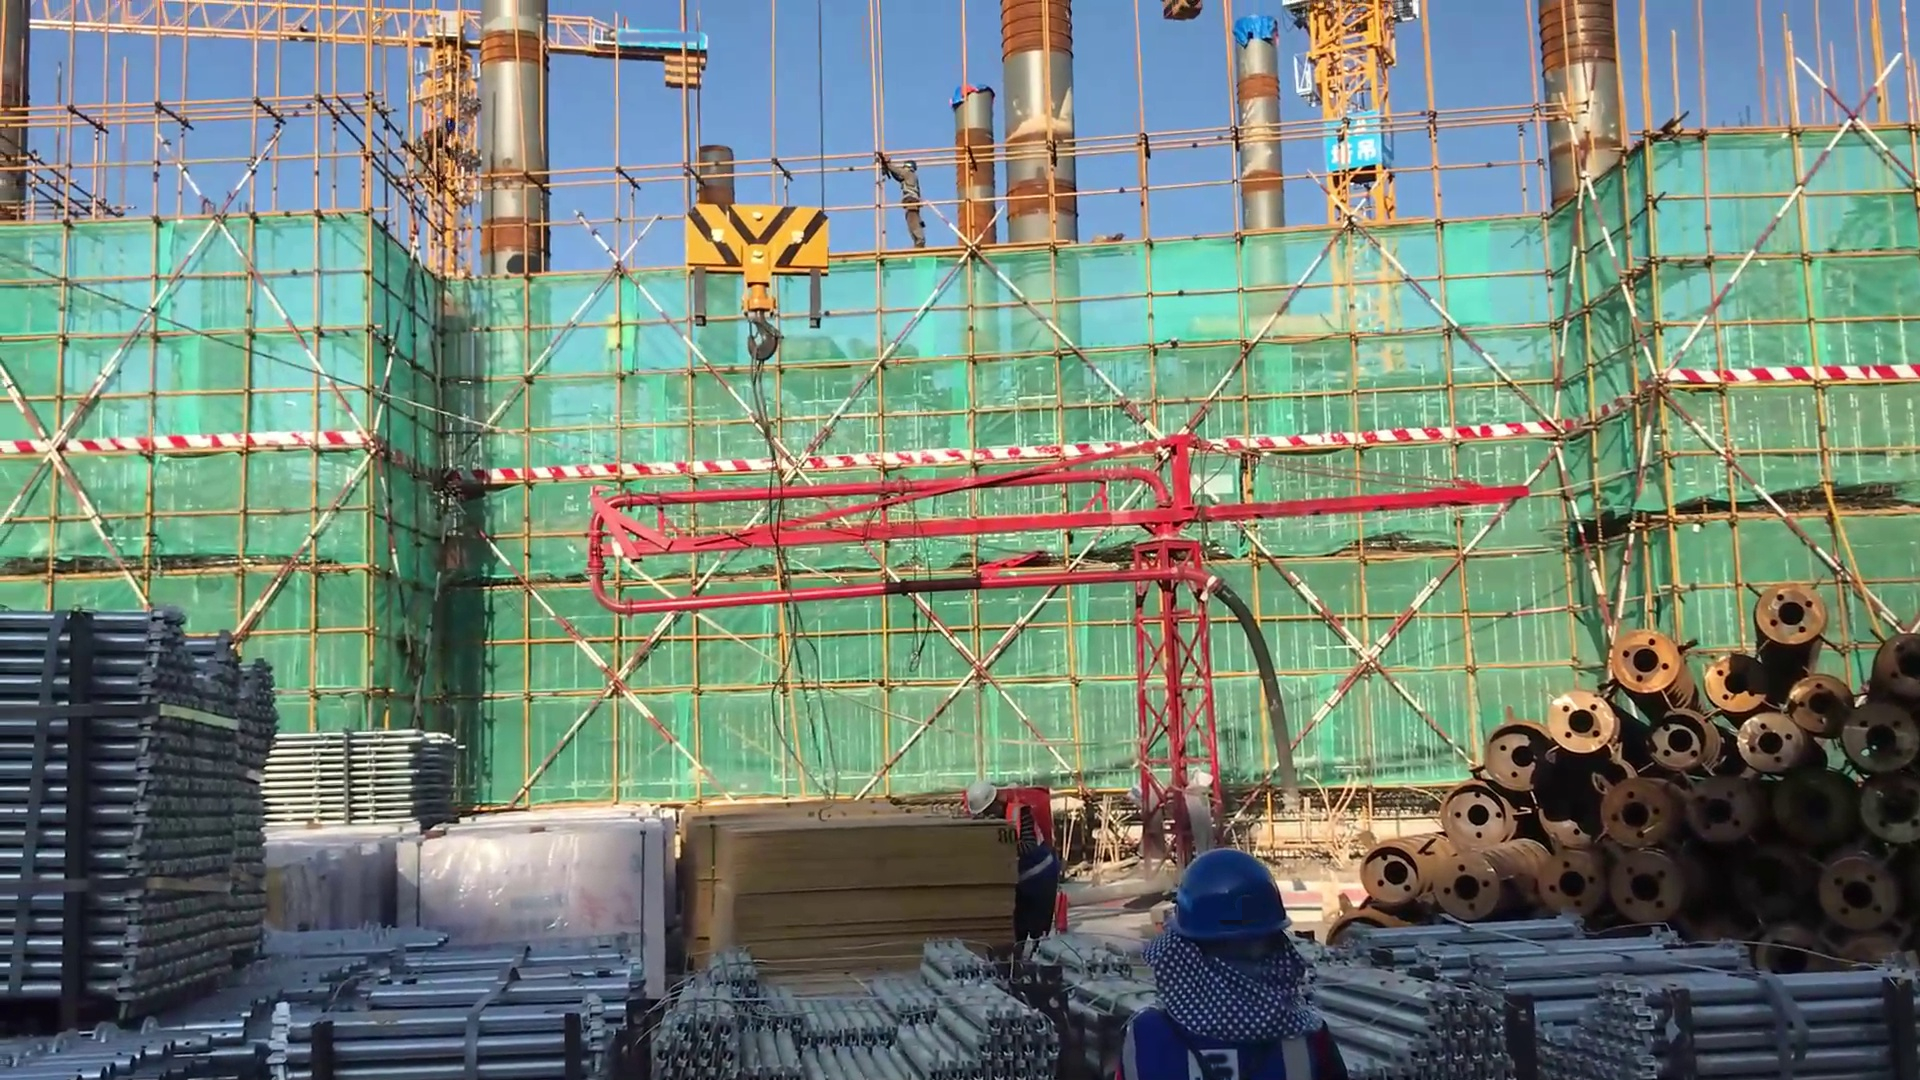board: (687, 806, 1019, 976)
helmet: (1158, 844, 1296, 936), (964, 783, 997, 819), (900, 156, 921, 178)
hook: (687, 192, 829, 376)
person: (1110, 838, 1354, 1080), (967, 779, 1066, 963), (877, 142, 932, 263)
scaffold: (1, 616, 280, 1014), (315, 937, 1045, 1080), (1319, 919, 1894, 1080), (1, 928, 411, 1080), (261, 734, 476, 831)
slogan: (1327, 107, 1384, 181)
vest: (1123, 1007, 1321, 1080), (997, 802, 1062, 895)
